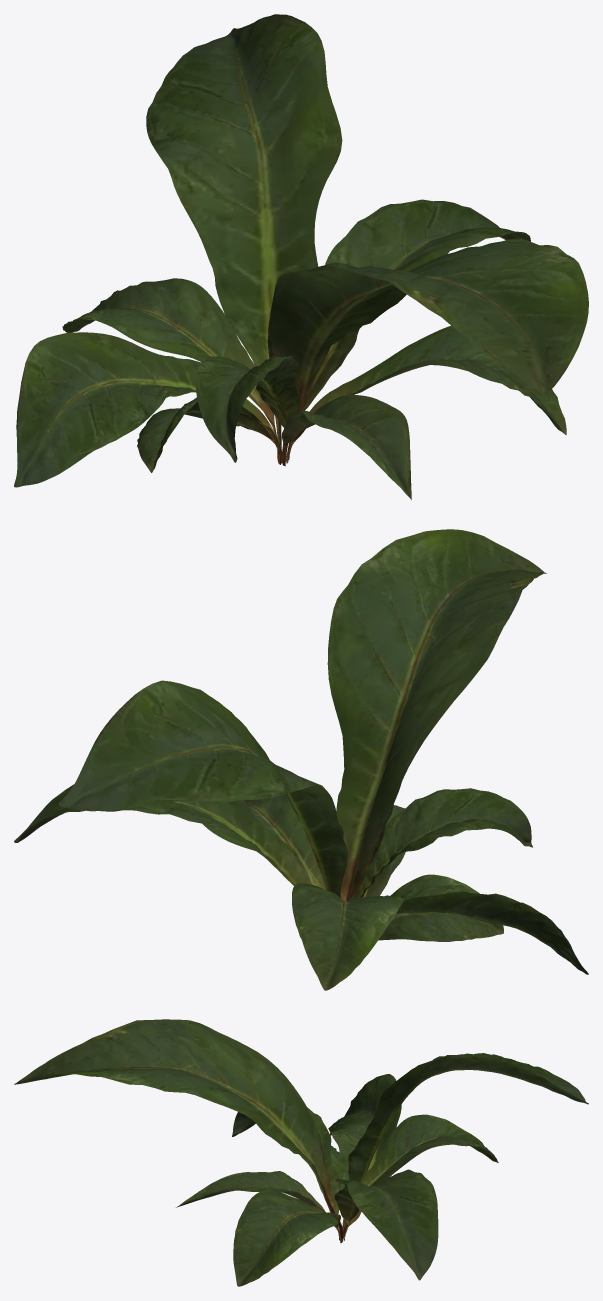
Rendered from anthurium_botany_01.glb.
3 renders of one model, top to bottom at view 1: azimuth 30°, elevation 25°; view 2: azimuth 150°, elevation 25°; view 3: azimuth 270°, elevation 25°, orthographic. The views are drawn at different scales.
Visible parts, largest first — view 1: anthurium_botany_01_a; view 2: anthurium_botany_01_a; view 3: anthurium_botany_01_a.
Part boxes in pixels (left/top/right/bottom): anthurium_botany_01_a: left=14, top=14, right=588, bottom=499; anthurium_botany_01_a: left=14, top=529, right=588, bottom=990; anthurium_botany_01_a: left=14, top=1019, right=588, bottom=1286.
Size of the model in its own units: 0.8963 by 0.4996 by 1.14.
1 material, 1 textured.
